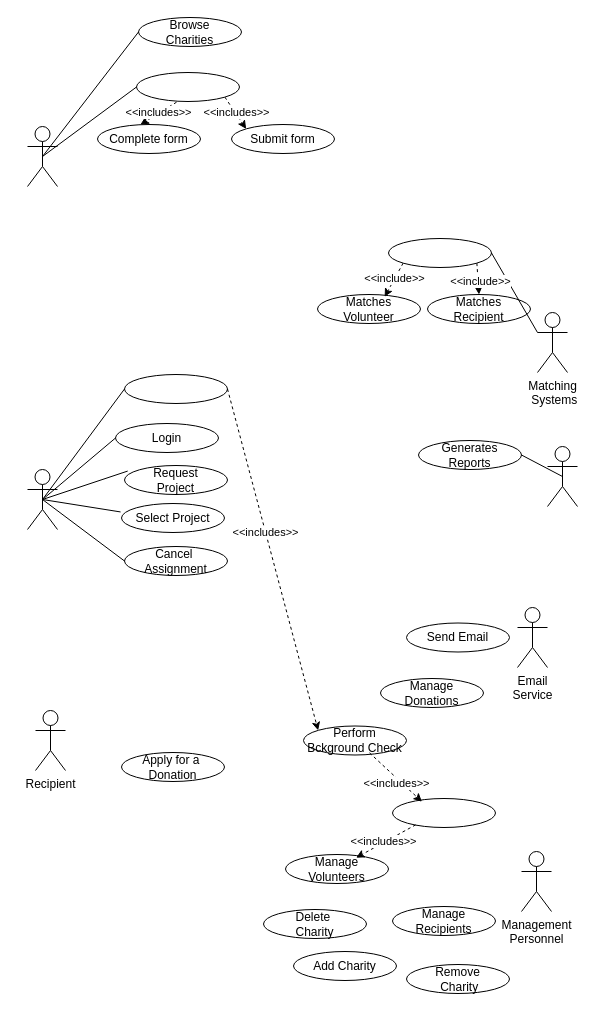
Some shapes in this 601 by 1011 pixel diagram are drawn without their labels. Each missing label, with the centre of its shape:
Apply for Charity: the point at 188,87
Approve Volunteer: the point at 444,813
Donor: the point at 42,156
Manages Matching: the point at 440,253
Register: the point at 176,389
Report System: the point at 562,476
Volunteer: the point at 42,499
